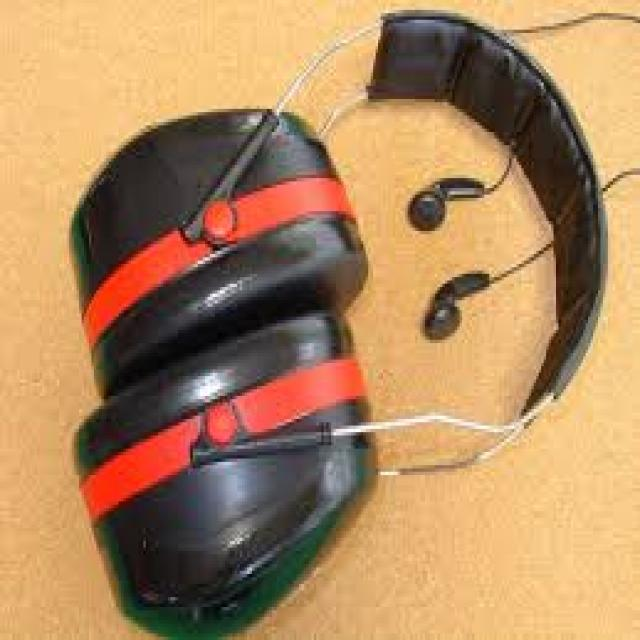Ear-Protection: (67, 346, 383, 637), (62, 99, 353, 366)
